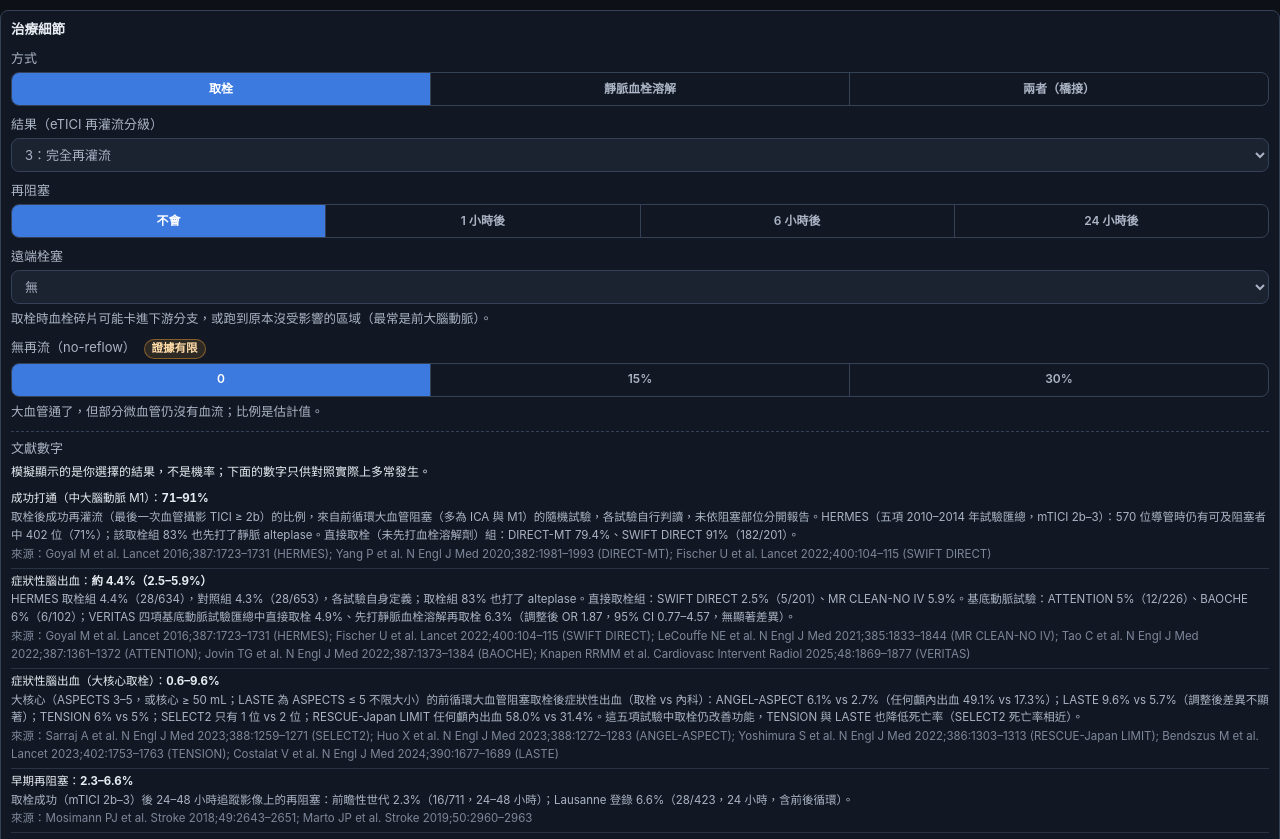
Scenario: cluster C2 of the clinical-detail audit › C2-F9: new-territory emboli are offered in their own group, and IV thrombolysis says the figures are thrombectomy data
Select "aca_callosomarginal_l" in the dropdown showing "無" at (640, 288), box [11, 270, 1269, 304]
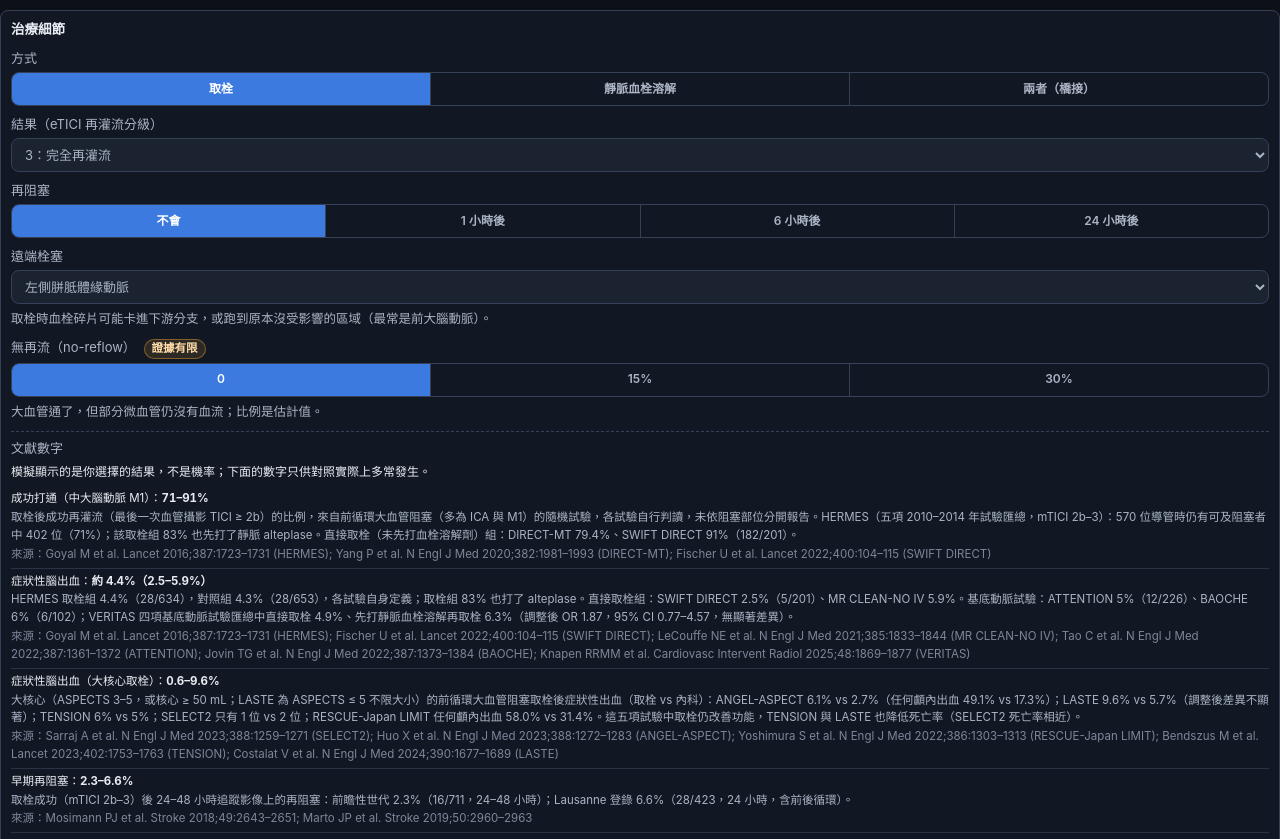
Expected: the text "靜脈血栓溶解後血栓也可能碎裂" is not shown
Click the radio button labelled "靜脈血栓溶解".
click(640, 89)  # box [430, 73, 849, 105]
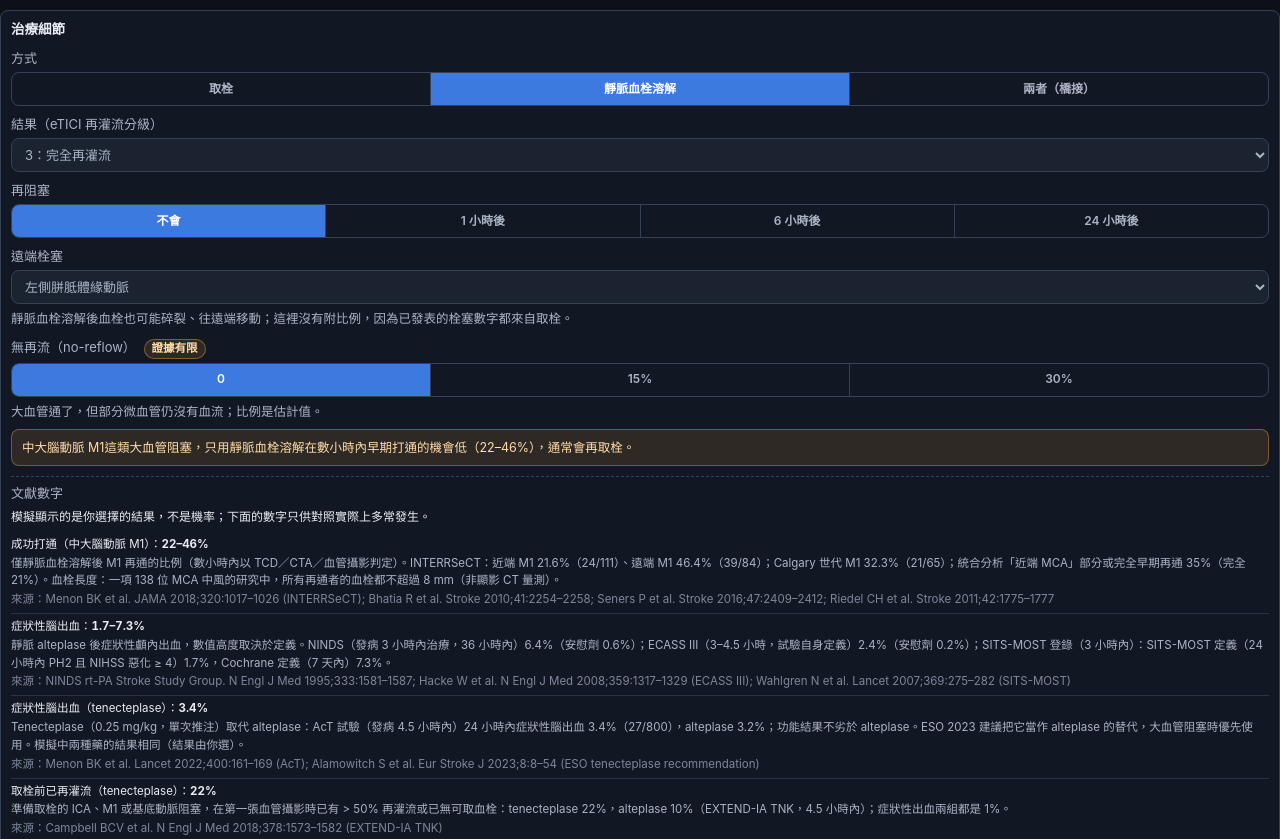
Expected: the text "靜脈血栓溶解後血栓也可能碎裂、往遠端移動；這裡沒有附比例，因為已發表的栓塞數字都來自取栓。" is shown, [11, 312, 574, 326]
